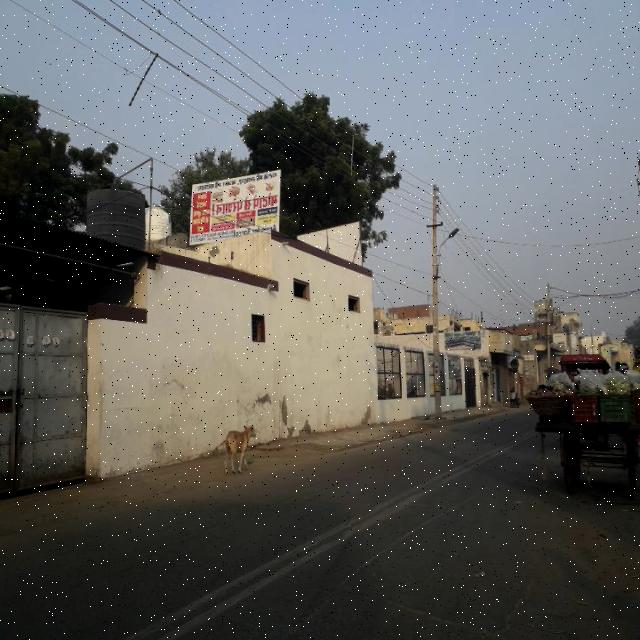D01: (376, 487, 476, 560), (272, 562, 372, 634), (488, 570, 539, 639)
D10: (348, 582, 503, 628)
